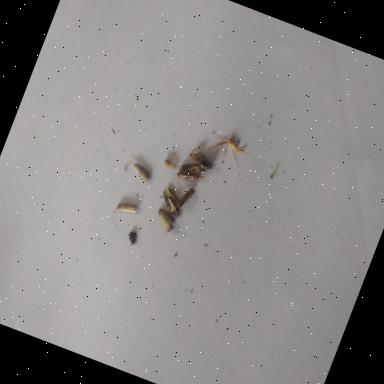pbw: (210, 132, 248, 166), (121, 160, 155, 189), (174, 166, 210, 192), (156, 186, 185, 217), (150, 207, 180, 236), (178, 157, 208, 182), (174, 185, 195, 212), (114, 198, 138, 218), (160, 158, 180, 176), (188, 149, 203, 165), (200, 158, 214, 170)
